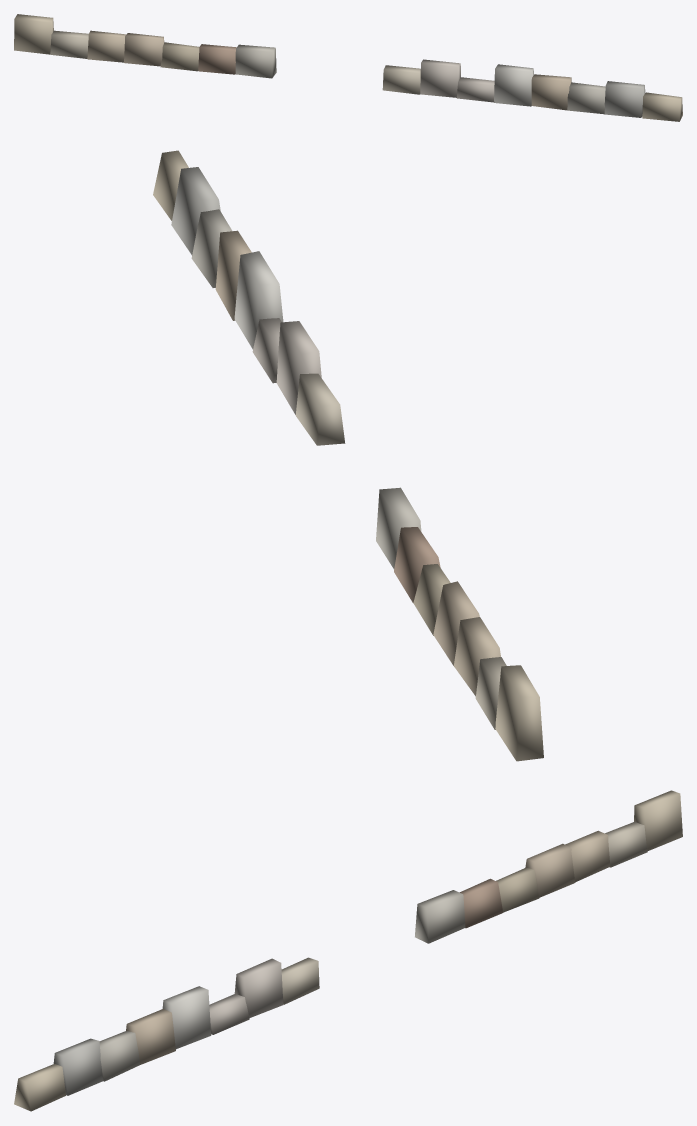
Rendered from farm_-43_-53_far.glb.
3 renders of one model, top to bottom at view 1: azimuth 30°, elevation 25°; view 2: azimuth 150°, elevation 25°; view 3: azimuth 270°, elevation 25°, orthographic. The views are drawn at different scales.
Parts seen in each view (by area): view 1: geometry_0; view 2: geometry_0; view 3: geometry_0.
Part boxes in pixels (bbox=[...]): geometry_0: bbox=[14, 14, 682, 121]; geometry_0: bbox=[153, 150, 543, 761]; geometry_0: bbox=[14, 790, 682, 1111].
Size of the model in its own units: 19.85 by 1.57 by 19.74.
